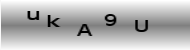9: (104, 12, 117, 27)
A: (76, 22, 94, 38)
U: (134, 18, 149, 32)
k: (46, 13, 61, 28)
u: (26, 9, 42, 22)
